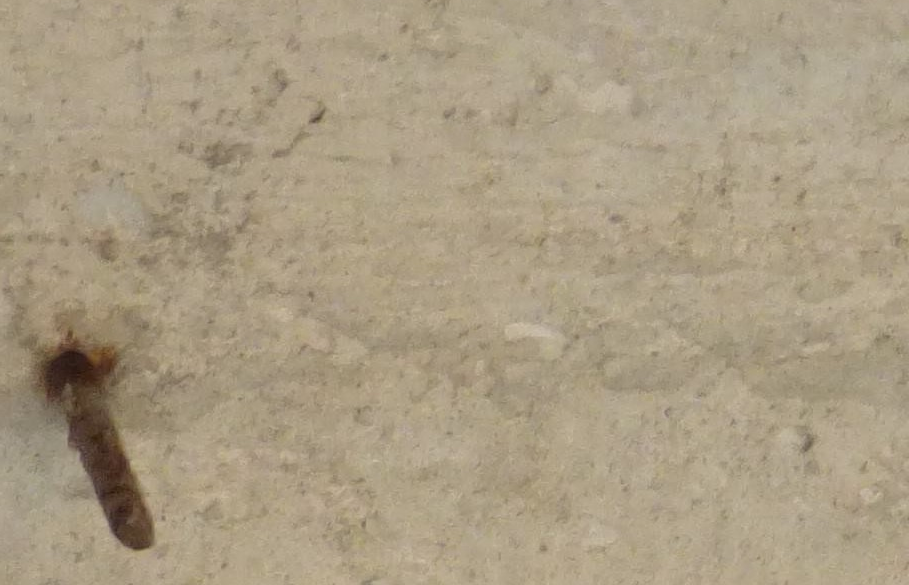Exposed reinforcement: (48, 356, 156, 551)
